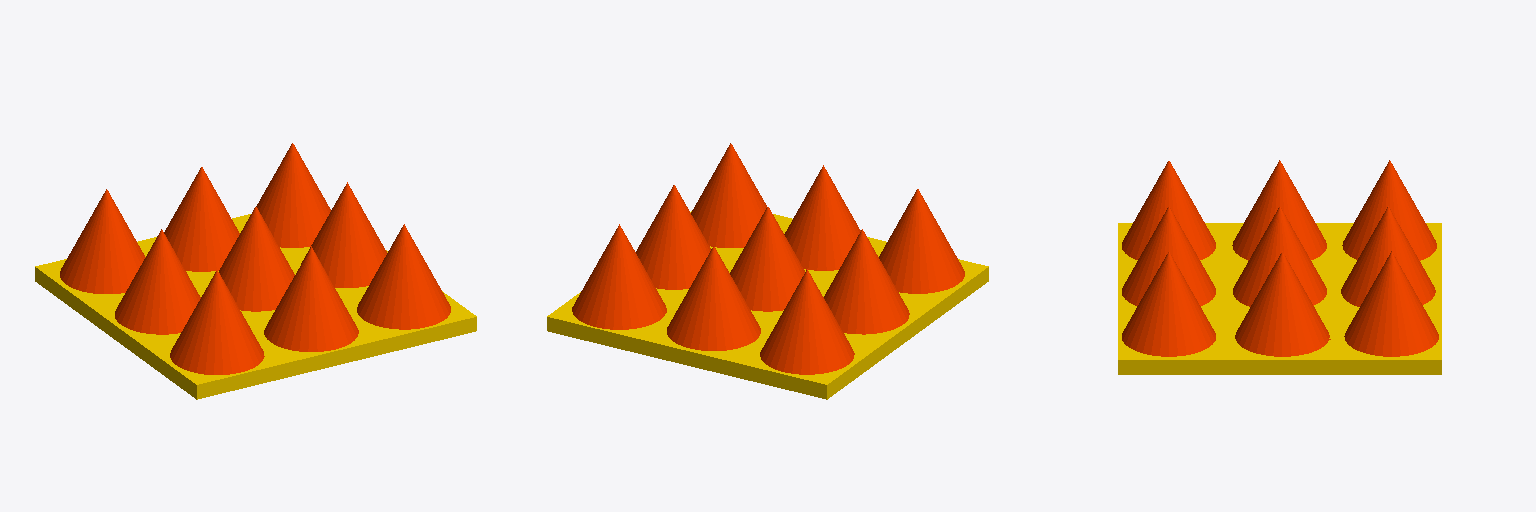
3 renders of one model, left to right at view 1: azimuth 30°, elevation 25°; view 2: azimuth 150°, elevation 25°; view 3: azimuth 270°, elevation 25°, orthographic.
Parts seen in each view (by area): view 1: 円錐.005; view 2: 円錐.005; view 3: 円錐.005.
Part boxes in pixels (left/top/right/bottom): 円錐.005: left=35, top=143, right=476, bottom=399; 円錐.005: left=547, top=143, right=988, bottom=399; 円錐.005: left=1118, top=160, right=1441, bottom=374.
Size of the model in its own units: 2 by 0.6857 by 2.
Materials: 1 (1 with a texture image).